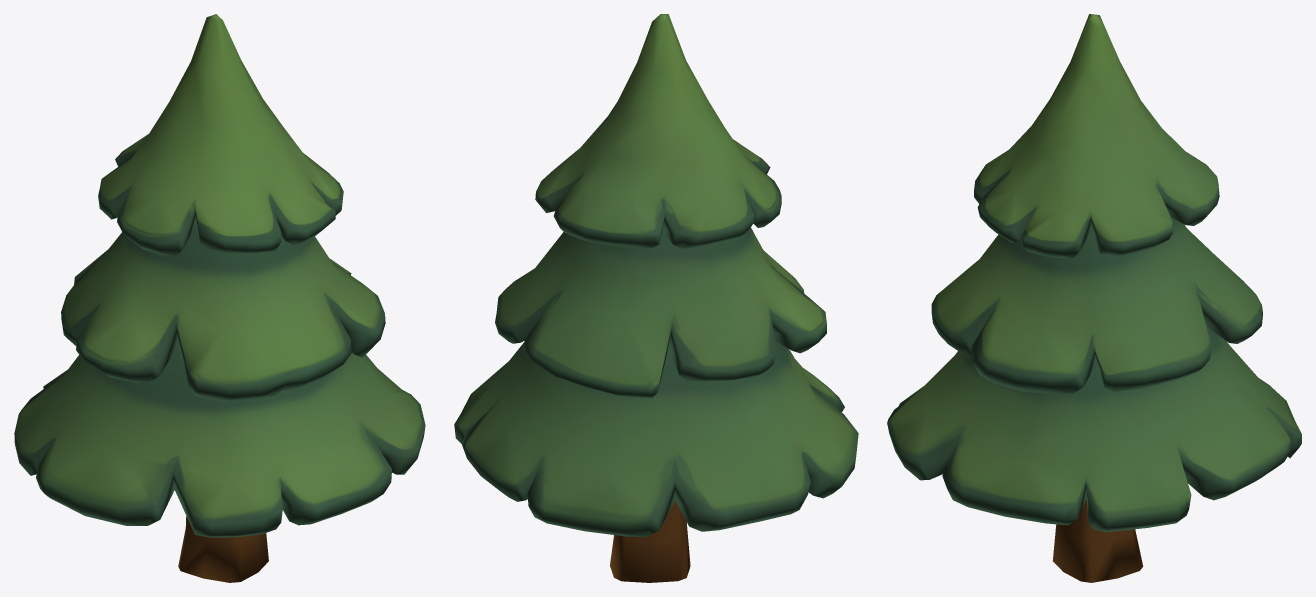
The model's file is map_pine_a_tripo.glb.
The picture shows the model from 3 angles, left to right: view 1: azimuth 30°, elevation 25°; view 2: azimuth 150°, elevation 25°; view 3: azimuth 270°, elevation 25°; orthographic projection.
Parts seen in each view (by area): view 1: tripo_node_571af6ca-e8db-4ca2-85cd-5d299b99b3ee; view 2: tripo_node_571af6ca-e8db-4ca2-85cd-5d299b99b3ee; view 3: tripo_node_571af6ca-e8db-4ca2-85cd-5d299b99b3ee.
Part boxes in pixels (x1=…): tripo_node_571af6ca-e8db-4ca2-85cd-5d299b99b3ee: x1=14, y1=14, x2=425, y2=582; tripo_node_571af6ca-e8db-4ca2-85cd-5d299b99b3ee: x1=454, y1=14, x2=858, y2=582; tripo_node_571af6ca-e8db-4ca2-85cd-5d299b99b3ee: x1=887, y1=14, x2=1301, y2=582.
Size of the model in its own units: 0.6816 by 0.998 by 0.6895.
1 material, 1 textured.
